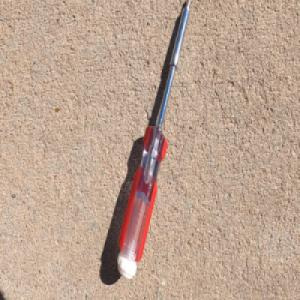Screwdriver: (116, 0, 191, 281)
